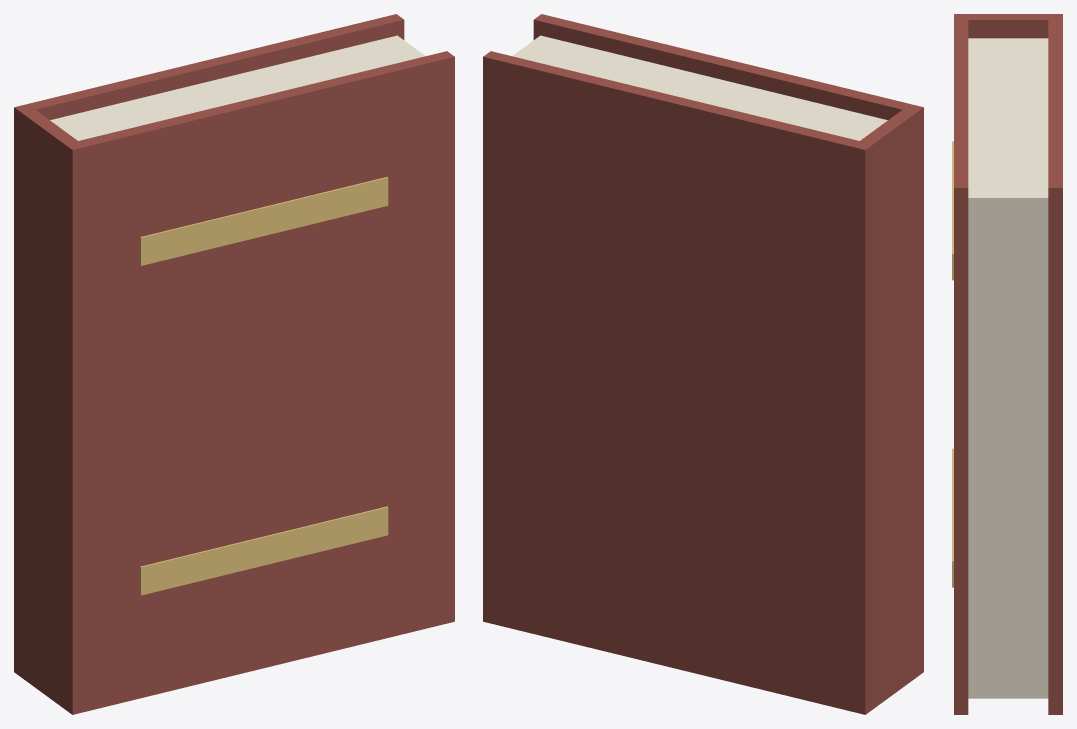
The picture shows the model from 3 angles, left to right: view 1: azimuth 30°, elevation 25°; view 2: azimuth 150°, elevation 25°; view 3: azimuth 270°, elevation 25°; orthographic projection. The views are drawn at different scales.
Size of the model in its own units: 0.17 by 0.24 by 0.0457.
